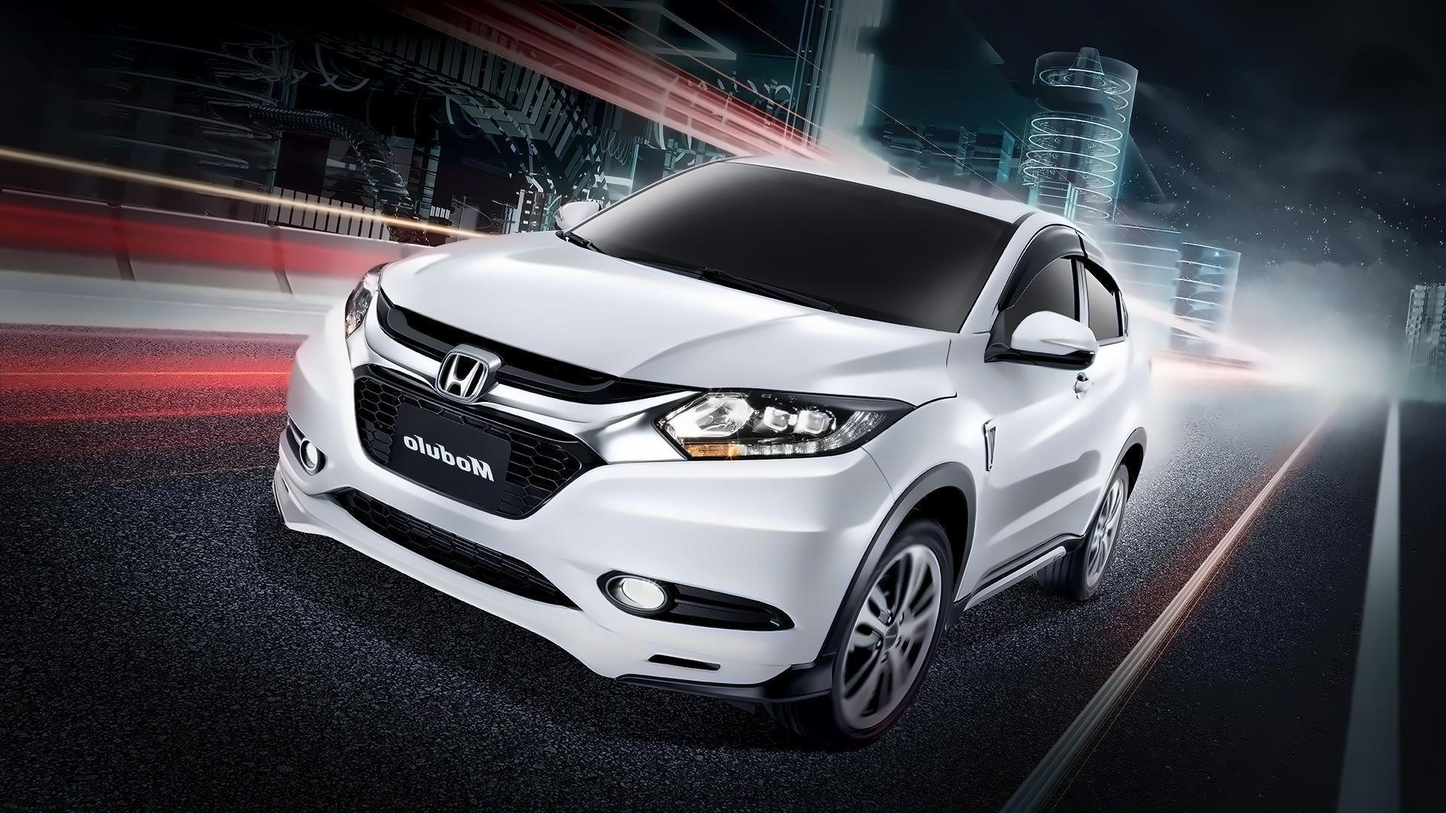Car hood: (377, 227, 961, 414)
Fender - -F-L-: (851, 330, 1001, 528)
Front bumper: (257, 457, 833, 718)
Headlight - -L-: (657, 383, 919, 462)
Headlight - -R-: (343, 254, 391, 341)
Passenger-s door - -F-L-: (972, 203, 1101, 599)
Passenger-s door - -R-L-: (1073, 222, 1134, 579)
Side bumper - -L-: (945, 520, 1087, 634)
Side mirror - -L-: (1011, 308, 1097, 372)
Side mirror - -R-: (554, 201, 611, 239)
